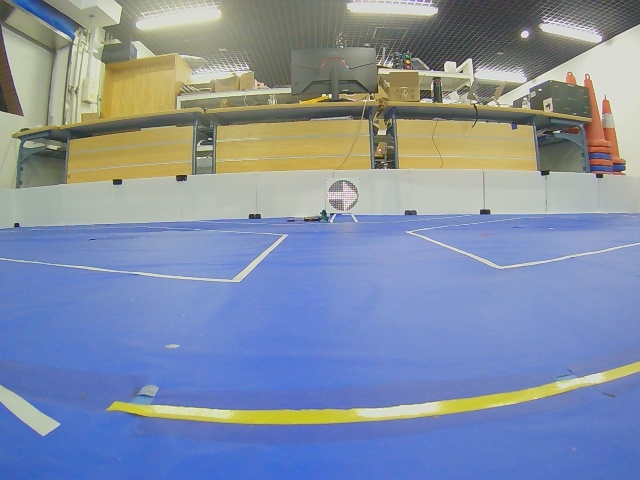right_yellow: (327, 180, 359, 212)
